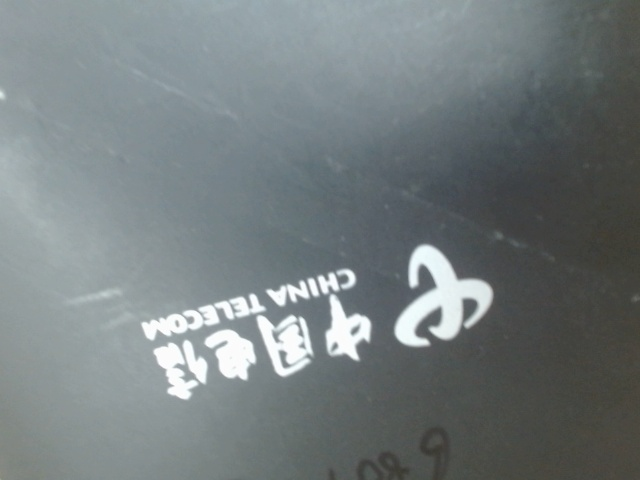AB_ChinaTelecom: (123, 226, 511, 409)
